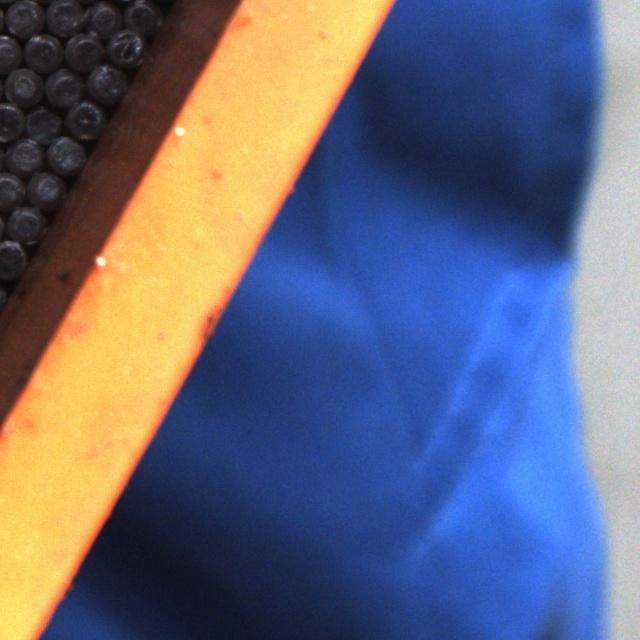tool: (86, 61, 127, 102), (63, 99, 104, 140), (5, 203, 46, 243), (63, 27, 103, 67), (43, 66, 83, 106), (22, 30, 62, 70), (106, 26, 146, 66), (3, 64, 42, 103), (5, 134, 45, 172), (46, 134, 85, 172), (25, 166, 63, 204), (24, 103, 62, 141), (3, 0, 43, 35), (44, 0, 84, 32), (84, 0, 122, 33), (125, 0, 164, 31), (0, 238, 26, 278), (0, 100, 23, 142), (0, 169, 23, 208), (0, 31, 22, 70)
